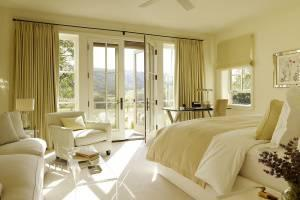window: (57, 31, 178, 144)
